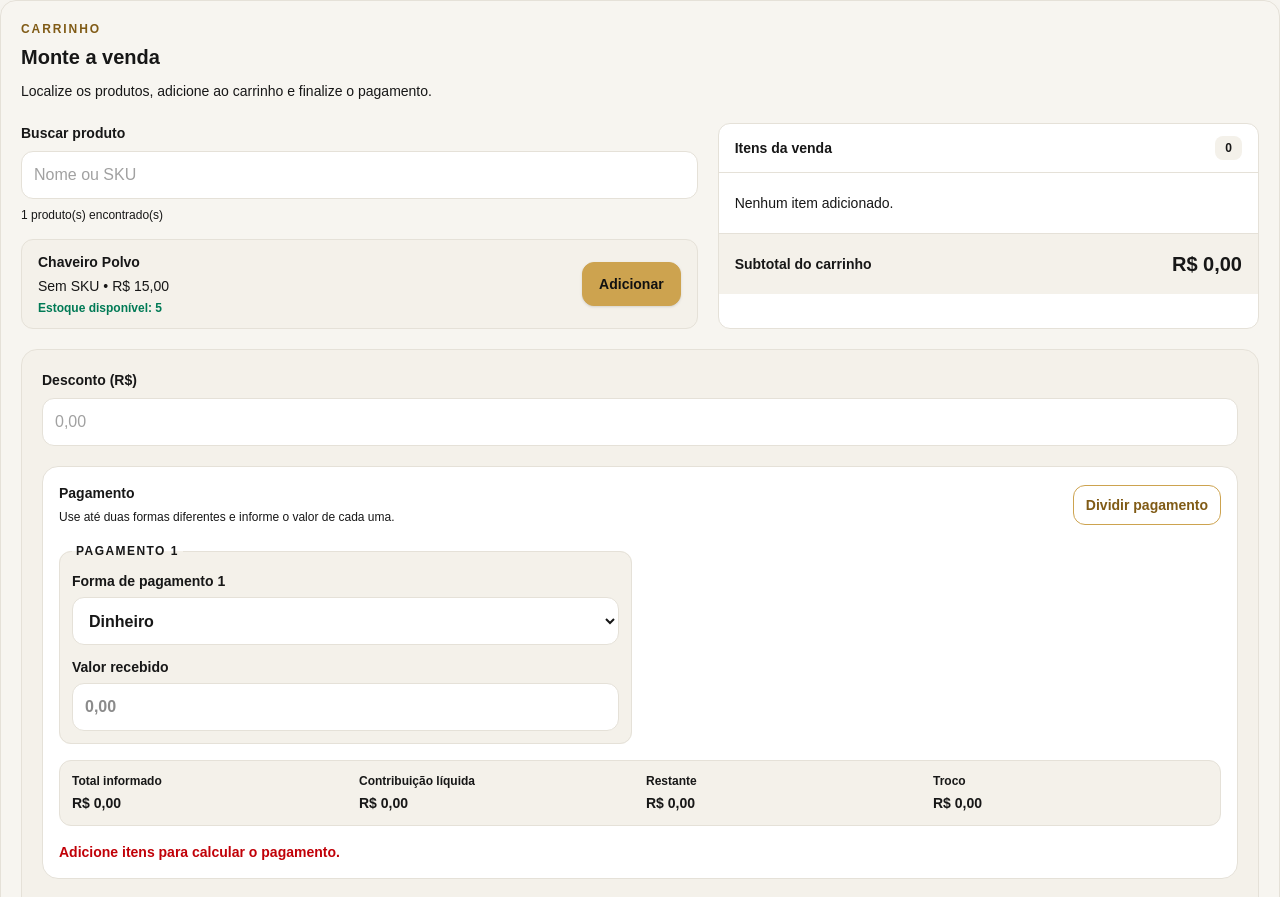
Test: PdvCart › applies a BRL discount and recalculates the exact non-cash payment
The image size is (1280, 897).
Click the button "Adicionar" at (631, 284), box [582, 262, 681, 306]
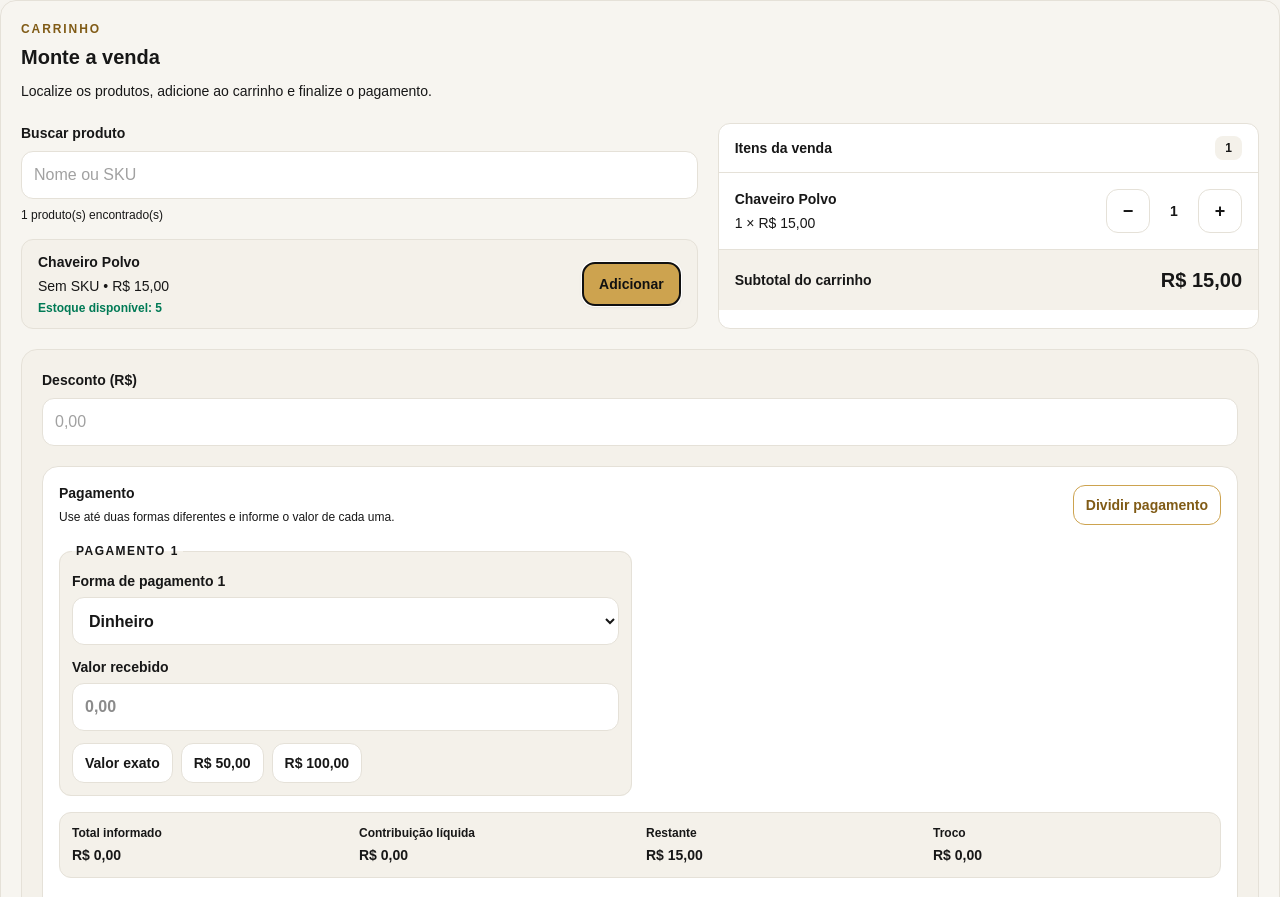
Type "0,01" into the field labelled "Desconto (R$)" at (640, 422), box [42, 398, 1238, 446]
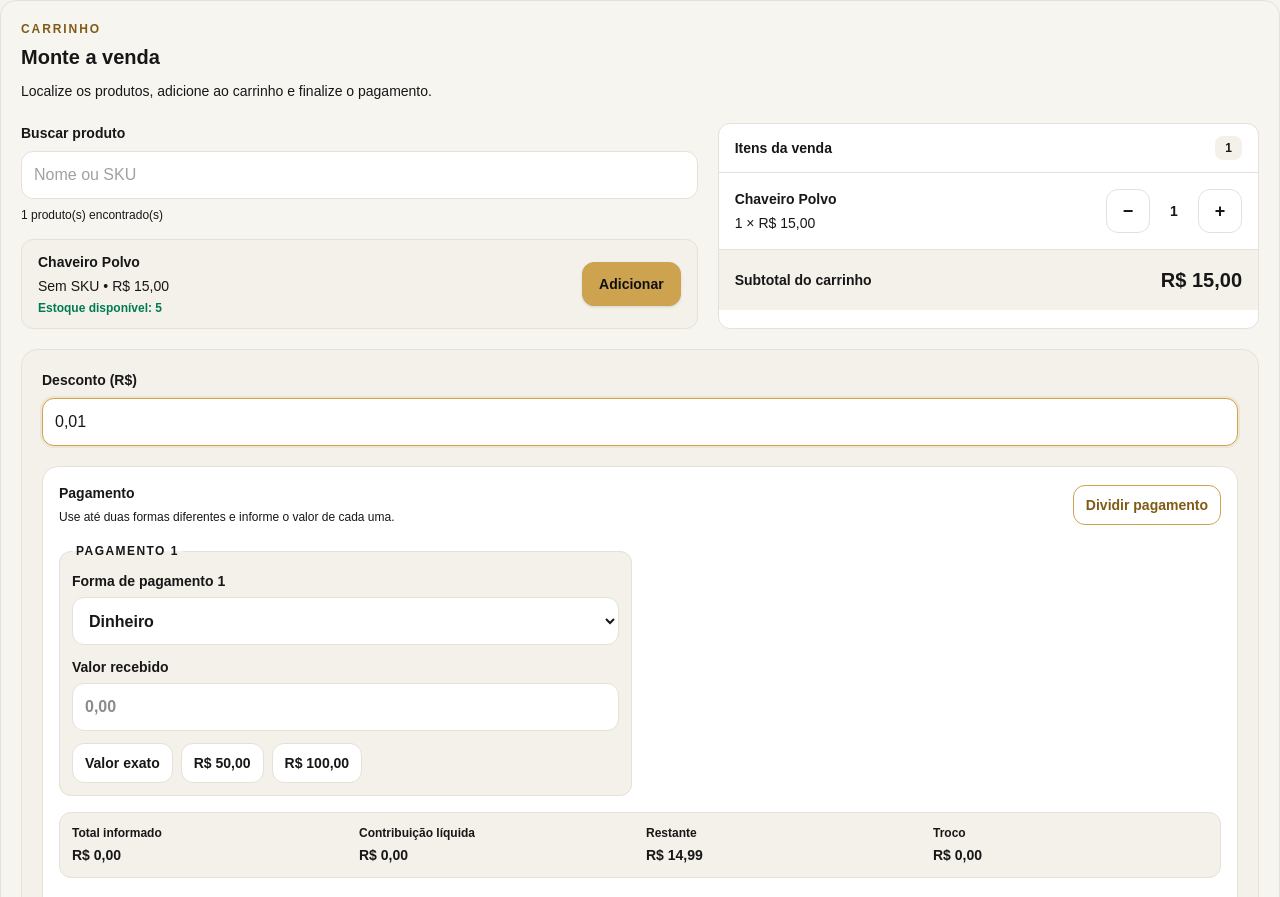
Select "Pix" in the dropdown labelled "Forma de pagamento 1" at (346, 621), box [72, 597, 619, 645]
(page scrolled)
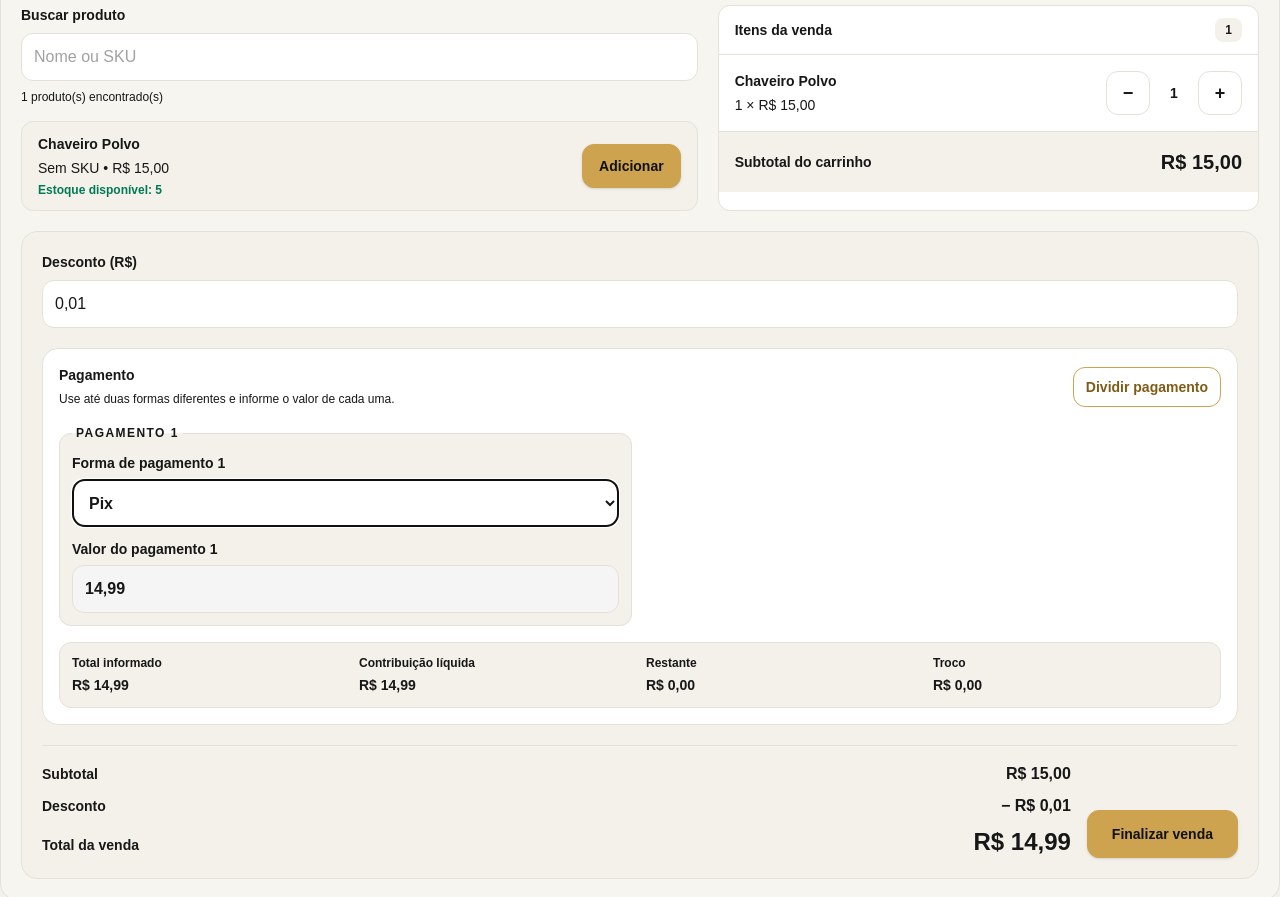
Check: the field showing "14,99" is shown, box [72, 565, 619, 613]
Check: the button "Finalizar venda" is enabled, box [1087, 810, 1238, 858]
